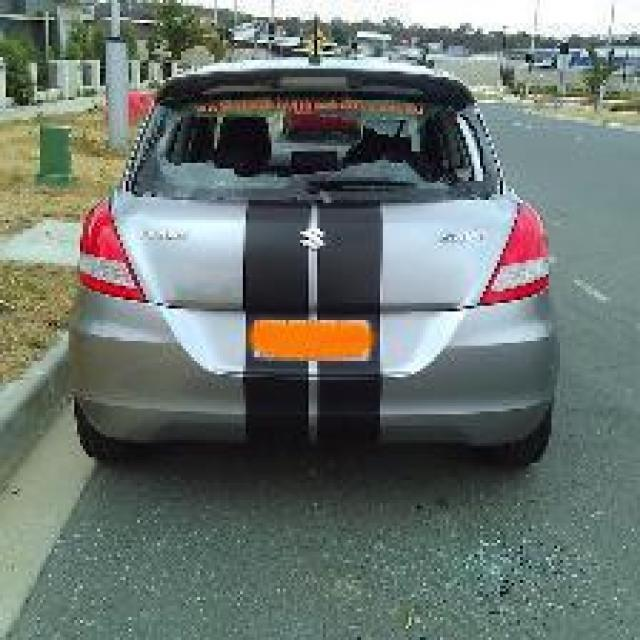damaged: (154, 103, 489, 203)
